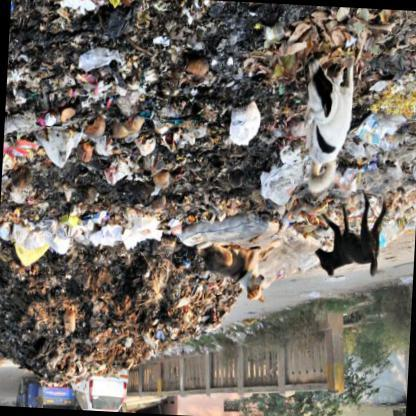Garbage: (5, 0, 305, 251), (4, 0, 225, 168), (0, 213, 195, 374), (14, 167, 185, 277), (220, 2, 303, 172), (346, 8, 415, 184)
